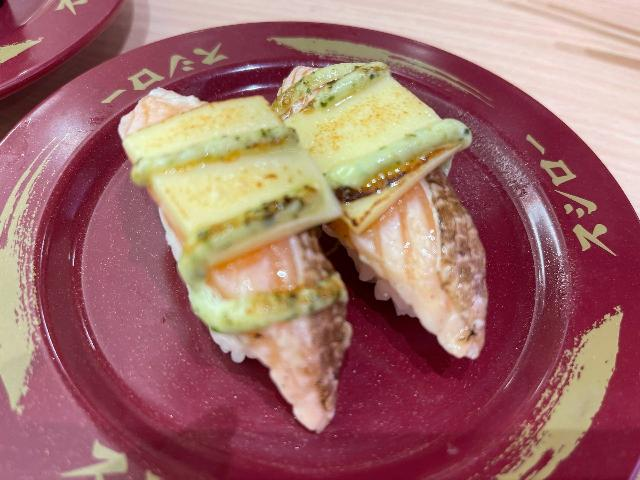janred: (12, 52, 634, 480), (15, 0, 115, 65)
